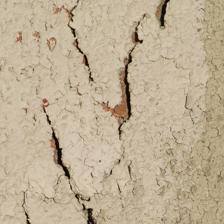Crack: (2, 0, 136, 164), (58, 65, 179, 97), (125, 34, 201, 52), (40, 26, 72, 44)
